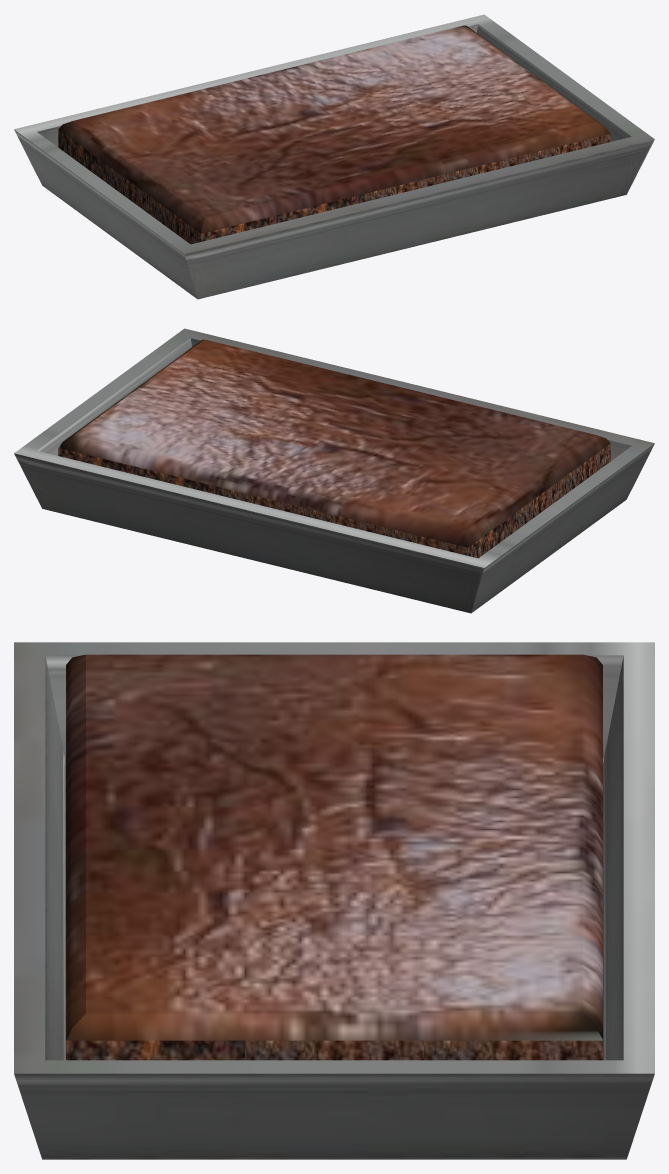
File: brownie_ensemble.FBX
The picture shows the model from 3 angles, top to bottom: view 1: azimuth 30°, elevation 25°; view 2: azimuth 150°, elevation 25°; view 3: azimuth 270°, elevation 25°; orthographic projection. The views are drawn at different scales.
Parts seen in each view (by area): view 1: brownie, brownie_pan; view 2: brownie, brownie_pan; view 3: brownie, brownie_pan.
Part boxes in pixels (bbox=[...]): brownie: bbox=[58, 25, 610, 244]; brownie_pan: bbox=[14, 14, 654, 299]; brownie: bbox=[58, 339, 610, 558]; brownie_pan: bbox=[14, 328, 654, 613]; brownie: bbox=[66, 654, 602, 1060]; brownie_pan: bbox=[14, 642, 654, 1159].
Size of the model in its own units: 90.48 by 12.62 by 56.81.
